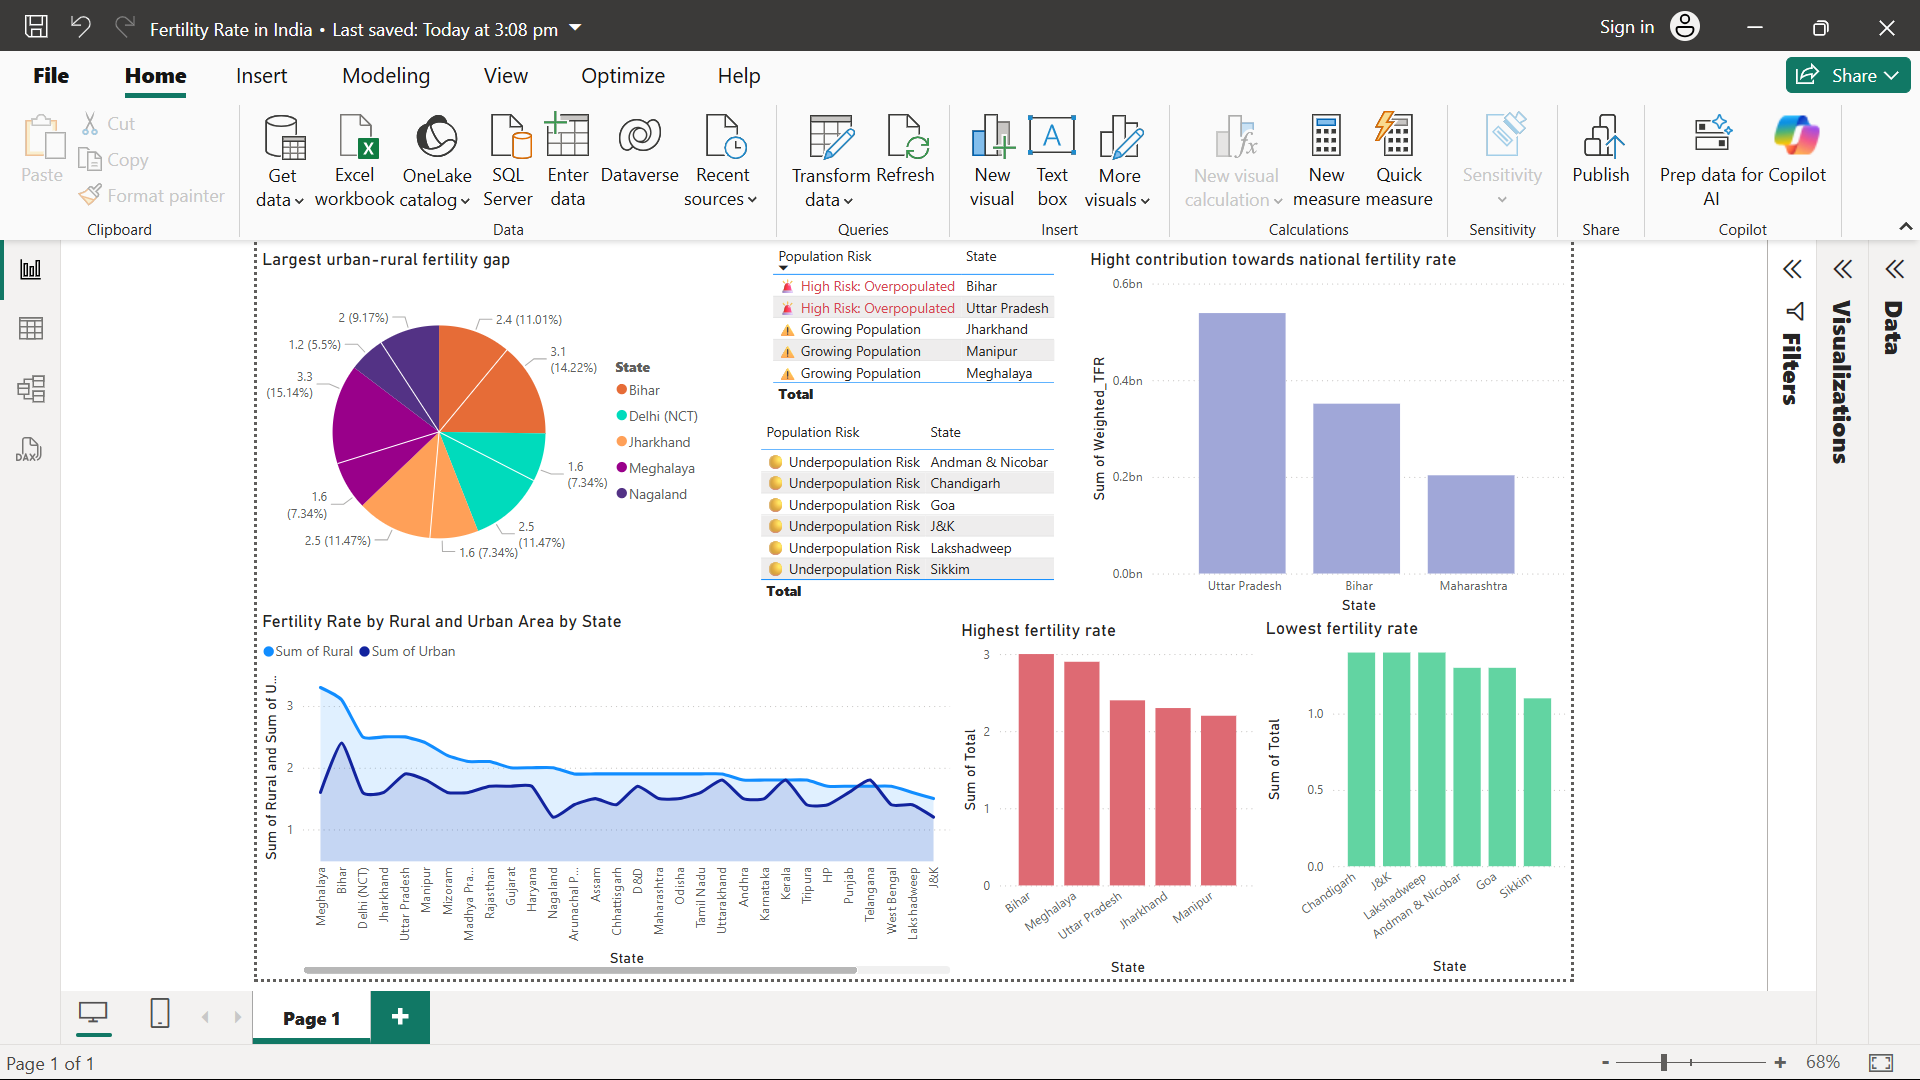

Layout of this report page (visuals, bound fields, positions):
{"tool":"powerbi","page":{"name":"Page 1","canvas":[1280,720],"ordinal":0},"visuals":[{"type":"columnChart","title":"Highest fertility rate","fields":{"Y":["fertility_analysis.Total"],"Category":["fertility_analysis.State"]},"box":[681,369.8,296.7,350.8],"z":0},{"type":"columnChart","title":"Lowest fertility rate","fields":{"Y":["fertility_analysis.Total"],"Category":["fertility_analysis.State"]},"box":[977,368.5,302.4,351.5],"z":1},{"type":"areaChart","title":"Fertility Rate by Rural and Urban Area by State","fields":{"Category":["fertility_analysis.State"],"Y":["fertility_analysis.Rural","fertility_analysis.Urban"]},"box":[0,360.9,680.3,359.1],"z":2},{"type":"tableEx","fields":{"Values":["fertility_analysis.Population Risk","fertility_analysis.State"]},"box":[496.7,0,287.7,166.6],"z":4},{"type":"tableEx","fields":{"Values":["fertility_analysis.Population Risk","fertility_analysis.State"]},"box":[484.5,171.1,311.9,196.8],"z":5},{"type":"pieChart","title":"Largest urban-rural fertility gap","fields":{"Y":["fertility_analysis.Urban","fertility_analysis.Rural"],"Category":["fertility_analysis.State"]},"box":[0,9.4,444.1,336.4],"z":6},{"type":"lineClusteredColumnComboChart","title":"Hight contribution towards national fertility rate","fields":{"Y":["fertility_analysis.Weighted_TFR"],"Category":["fertility_analysis.State"]},"box":[807.1,9.1,472.4,358.9],"z":7}]}

Visuals, with their boxes on the page's 1280x720 design canvas (x1, y1, x2, y2). These are canvas units, not pixel positions in the 1920x1080 screenshot, which may show the page scaled, cropped or inside an application window:
"Highest fertility rate" columnChart: bbox(681, 370, 978, 721)
"Lowest fertility rate" columnChart: bbox(977, 368, 1279, 720)
"Fertility Rate by Rural and Urban Area by State" areaChart: bbox(0, 361, 680, 720)
tableEx - fertility_analysis.Population Risk x fertility_analysis.State: bbox(497, 0, 784, 167)
tableEx - fertility_analysis.Population Risk x fertility_analysis.State: bbox(484, 171, 796, 368)
"Largest urban-rural fertility gap" pieChart: bbox(0, 9, 444, 346)
"Hight contribution towards national fertility rate" lineClusteredColumnComboChart: bbox(807, 9, 1280, 368)
